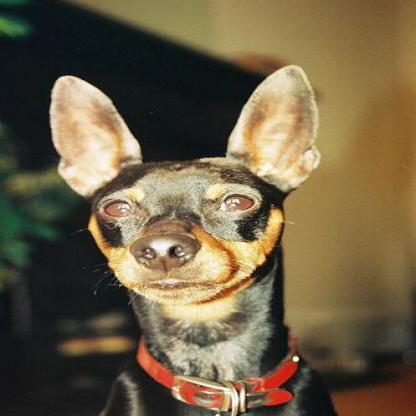miniature_pinscher: (43, 60, 330, 413)
